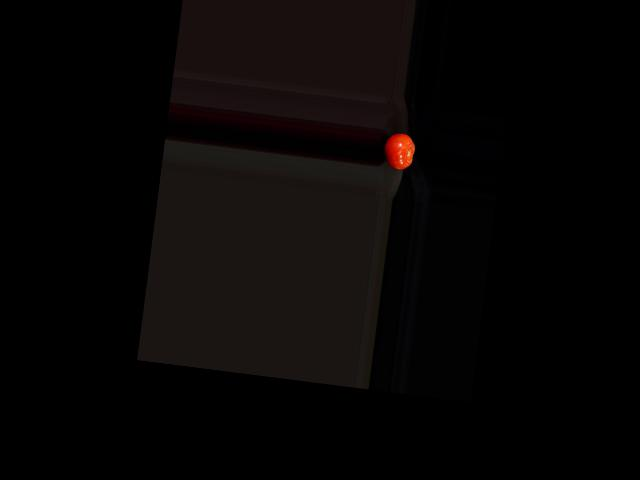tomato: (382, 130, 416, 170)
